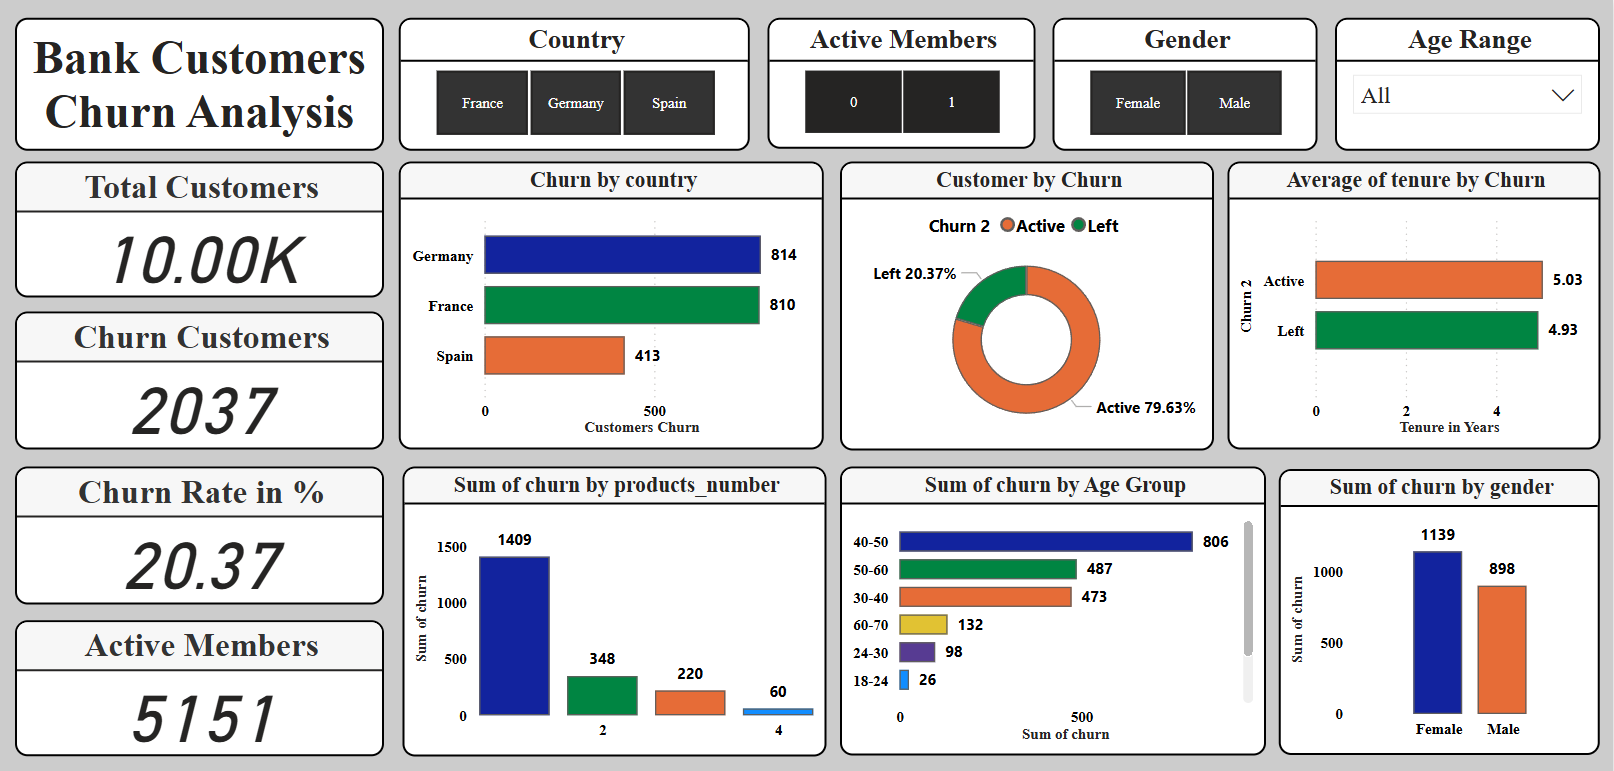

Layout of this report page (visuals, bound fields, positions):
{"tool":"powerbi","page":{"name":"Page 3","canvas":[1290,720],"ordinal":0},"visuals":[{"type":"textbox","box":[11.7,14.9,295.7,106.4],"z":0},{"type":"card","title":"Total Customers","fields":{"Values":["CountNonNull(Bank Customer Churn Prediction.customer_id)"]},"box":[11.7,129.8,295.7,109.6],"z":1000},{"type":"card","title":"Churn Customers","fields":{"Values":["Sum(Bank Customer Churn Prediction.churn)"]},"box":[11.7,250,295.7,109.6],"z":2000},{"type":"card","title":"Churn Rate in %","fields":{"Values":["Bank Customer Churn Prediction.Churn Rate"]},"box":[11.7,374.5,295.7,109.6],"z":3000},{"type":"card","title":"Active Members ","fields":{"Values":["Sum(Bank Customer Churn Prediction.active_member)"]},"box":[11.7,496.8,295.7,109.6],"z":4000},{"type":"slicer","title":"Country ","fields":{"Values":["Bank Customer Churn Prediction.country"]},"box":[319,15,281,106],"z":5000},{"type":"slicer","title":"Gender","fields":{"Values":["Bank Customer Churn Prediction.gender"]},"box":[842,15,212,106],"z":6000},{"type":"slicer","title":"Age Range ","fields":{"Values":["Bank Customer Churn Prediction.Age Group"]},"box":[1068.1,14.9,211.7,106.4],"z":7000},{"type":"slicer","title":"Active Members","fields":{"Values":["Bank Customer Churn Prediction.active_member"]},"box":[614.3,15,214,105],"z":8000},{"type":"clusteredBarChart","title":"Churn by country","fields":{"Category":["Bank Customer Churn Prediction.country"],"Y":["Sum(Bank Customer Churn Prediction.churn)"]},"box":[319,130,340,230],"z":9000},{"type":"barChart","fields":{"Category":["Bank Customer Churn Prediction.Age Group"],"Y":["Sum(Bank Customer Churn Prediction.churn)"]},"box":[672,374,341,231],"z":10000},{"type":"clusteredColumnChart","fields":{"Category":["Bank Customer Churn Prediction.products_number"],"Y":["Sum(Bank Customer Churn Prediction.churn)"]},"box":[322,374,339,232],"z":11000},{"type":"columnChart","fields":{"Category":["Bank Customer Churn Prediction.gender"],"Y":["Sum(Bank Customer Churn Prediction.churn)"]},"box":[1023,376,257,229],"z":12000},{"type":"donutChart","title":"Customer by Churn","fields":{"Y":["CountNonNull(Bank Customer Churn Prediction.customer_id)"],"Category":["Bank Customer Churn Prediction.Churn 2"]},"box":[672,130,299,231],"z":13000},{"type":"barChart","title":"Average of tenure by Churn","fields":{"Category":["Bank Customer Churn Prediction.Churn 2"],"Y":["Avg(Bank Customer Churn Prediction.tenure)"]},"box":[982,130,298,230],"z":14000}]}

Visuals, with their boxes on the page's 1290x720 design canvas (x1, y1, x2, y2). These are canvas units, not pixel positions in the 1614x771 screenshot, which may show the page scaled, cropped or inside an application window:
textbox: region(12, 15, 307, 121)
"Total Customers" card: region(12, 130, 307, 239)
"Churn Customers" card: region(12, 250, 307, 360)
"Churn Rate in %" card: region(12, 374, 307, 484)
"Active Members " card: region(12, 497, 307, 606)
"Country " slicer: region(319, 15, 600, 121)
"Gender" slicer: region(842, 15, 1054, 121)
"Age Range " slicer: region(1068, 15, 1280, 121)
"Active Members" slicer: region(614, 15, 828, 120)
"Churn by country" clusteredBarChart: region(319, 130, 659, 360)
barChart - Bank Customer Churn Prediction.Age Group x Sum(Bank Customer Churn Prediction.churn): region(672, 374, 1013, 605)
clusteredColumnChart - Bank Customer Churn Prediction.products_number x Sum(Bank Customer Churn Prediction.churn): region(322, 374, 661, 606)
columnChart - Bank Customer Churn Prediction.gender x Sum(Bank Customer Churn Prediction.churn): region(1023, 376, 1280, 605)
"Customer by Churn" donutChart: region(672, 130, 971, 361)
"Average of tenure by Churn" barChart: region(982, 130, 1280, 360)
